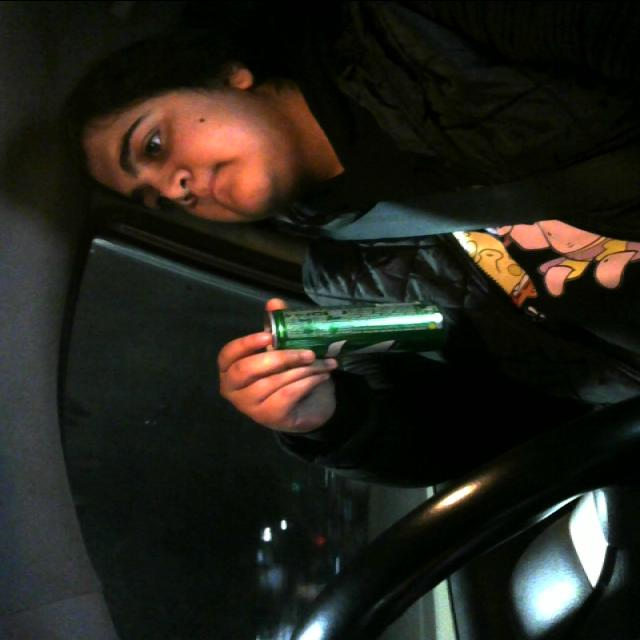drinking: (250, 296, 460, 356)
